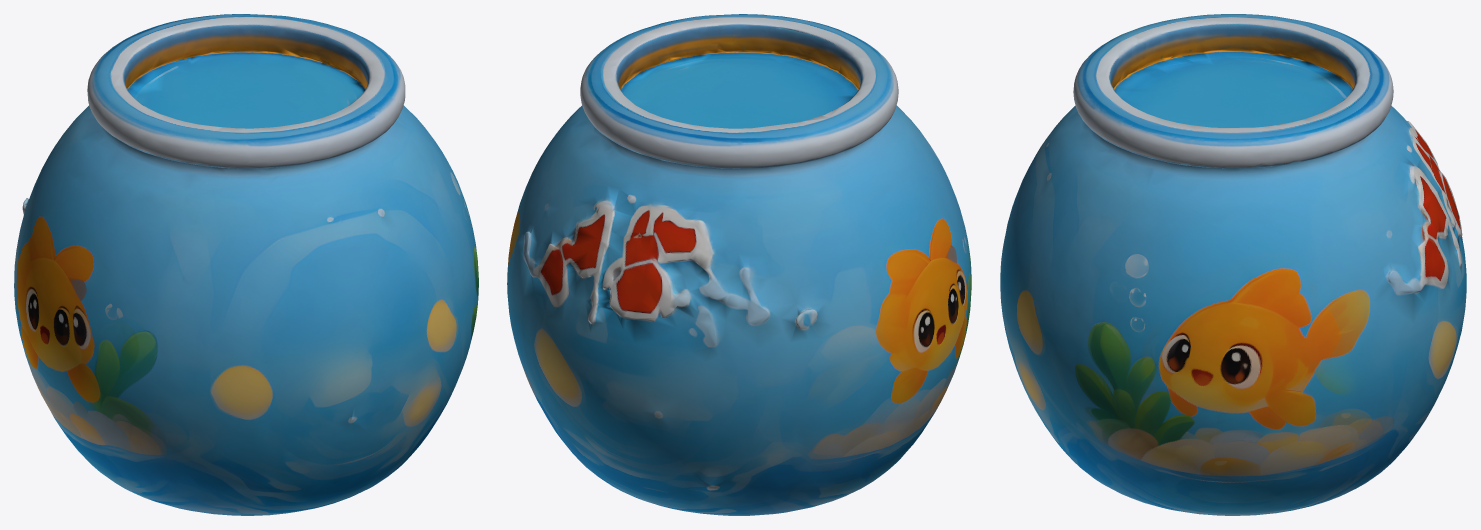
Rendered from fishbowl.glb.
3 renders of one model, left to right at view 1: azimuth 30°, elevation 25°; view 2: azimuth 150°, elevation 25°; view 3: azimuth 270°, elevation 25°, orthographic.
Parts seen in each view (by area): view 1: tripo_node_d43f6275-33f0-43a1-8664-f43d691d0d0a; view 2: tripo_node_d43f6275-33f0-43a1-8664-f43d691d0d0a; view 3: tripo_node_d43f6275-33f0-43a1-8664-f43d691d0d0a.
Part boxes in pixels (x1,y1,x2,y2): tripo_node_d43f6275-33f0-43a1-8664-f43d691d0d0a: (14, 14, 478, 515); tripo_node_d43f6275-33f0-43a1-8664-f43d691d0d0a: (507, 14, 971, 515); tripo_node_d43f6275-33f0-43a1-8664-f43d691d0d0a: (1000, 14, 1466, 515).
Size of the model in its own units: 0.9995 by 0.9249 by 0.9995.
Materials: 1 (1 with a texture image).
